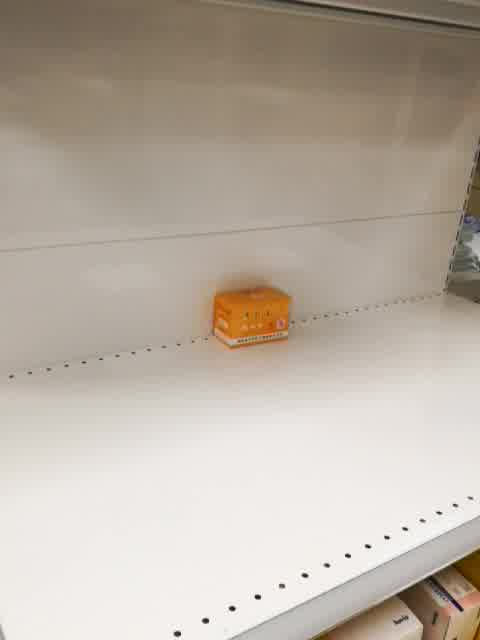jasminetea: (211, 285, 292, 350)
